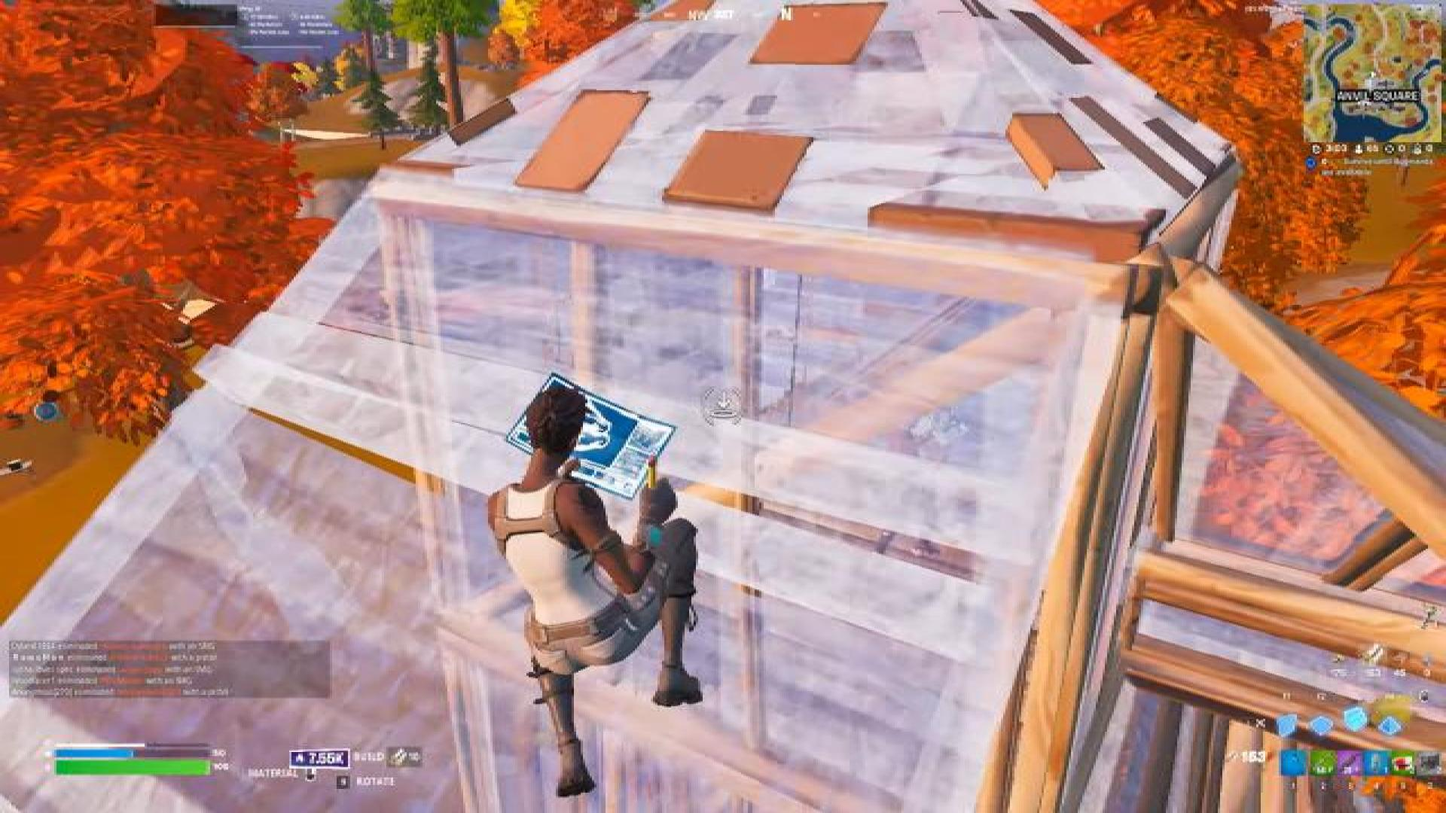player: (885, 423, 948, 571)
